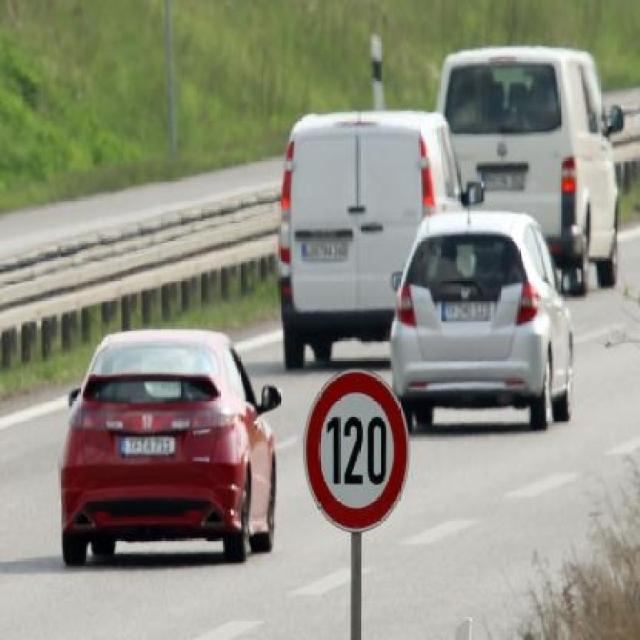forb_speed_over_120: (306, 374, 408, 532)
